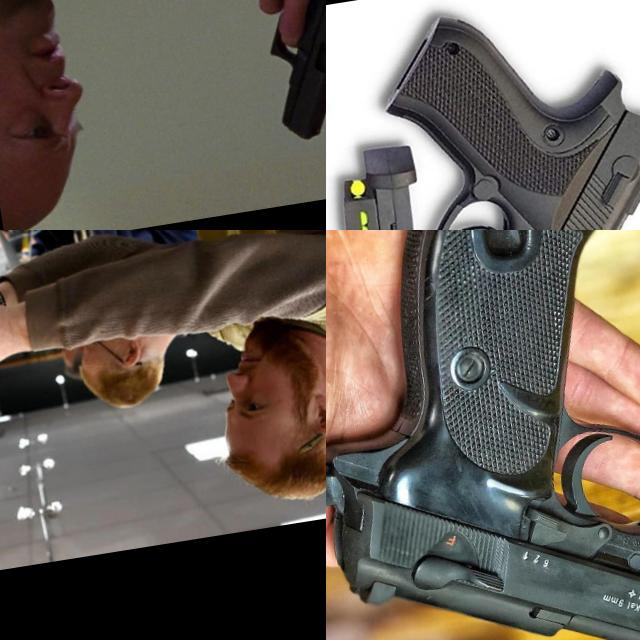handgun: (326, 230, 640, 640), (332, 0, 640, 230), (326, 15, 498, 230), (250, 0, 326, 145), (0, 325, 77, 419)
